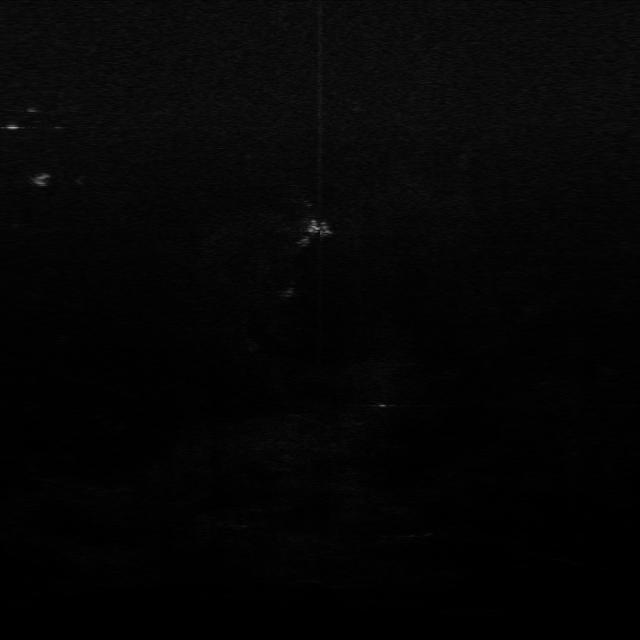rov: (27, 171, 54, 187)
